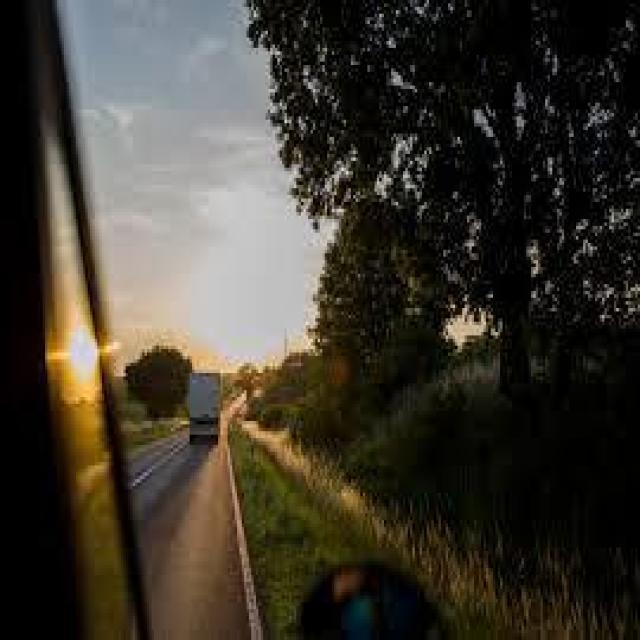other: (44, 279, 108, 421)
